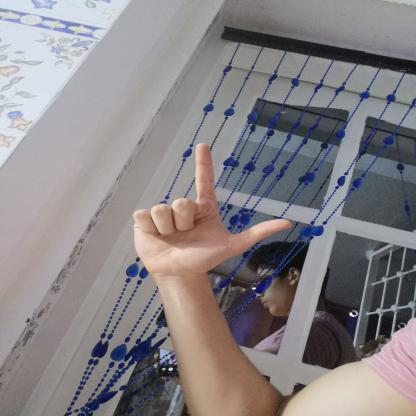LAAM: (113, 135, 309, 285)
